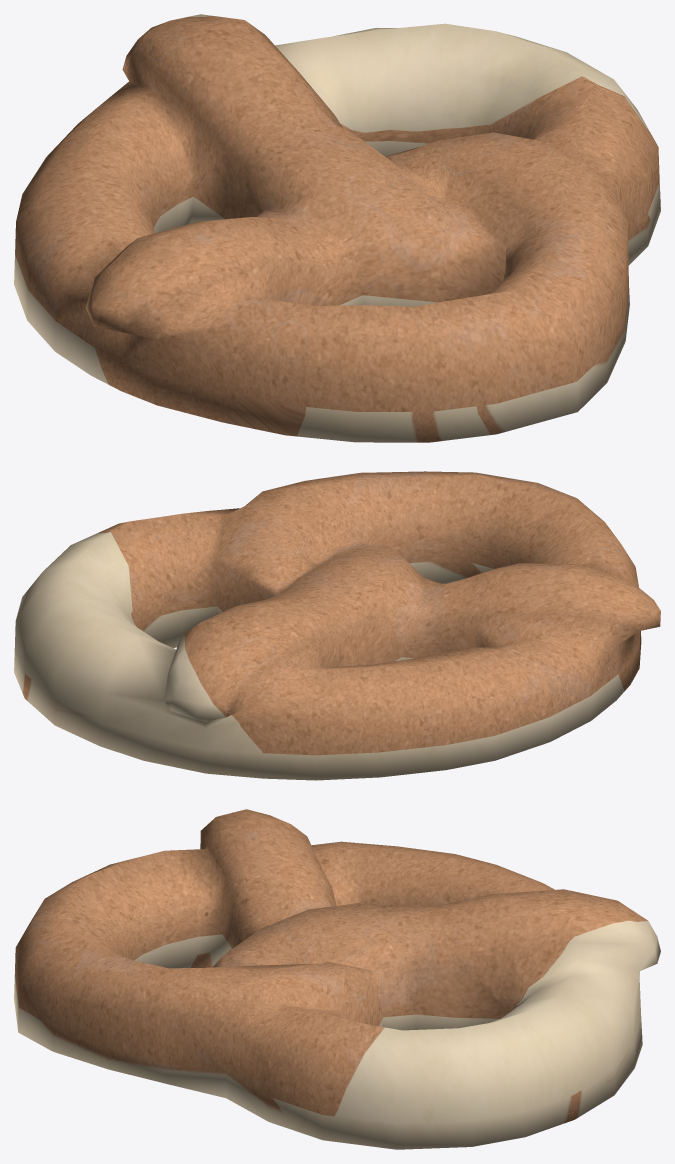
File: bretzel.gltf
The picture shows the model from 3 angles, top to bottom: view 1: azimuth 30°, elevation 25°; view 2: azimuth 150°, elevation 25°; view 3: azimuth 270°, elevation 25°; orthographic projection. The views are drawn at different scales.
Visible parts, largest first — view 1: bretzel; view 2: bretzel; view 3: bretzel.
Part boxes in pixels (x1,y1,x2,y2): bretzel: (14,14,660,442); bretzel: (14,471,660,780); bretzel: (14,809,660,1149).
Size of the model in its own units: 0.5101 by 0.1225 by 0.5381.
